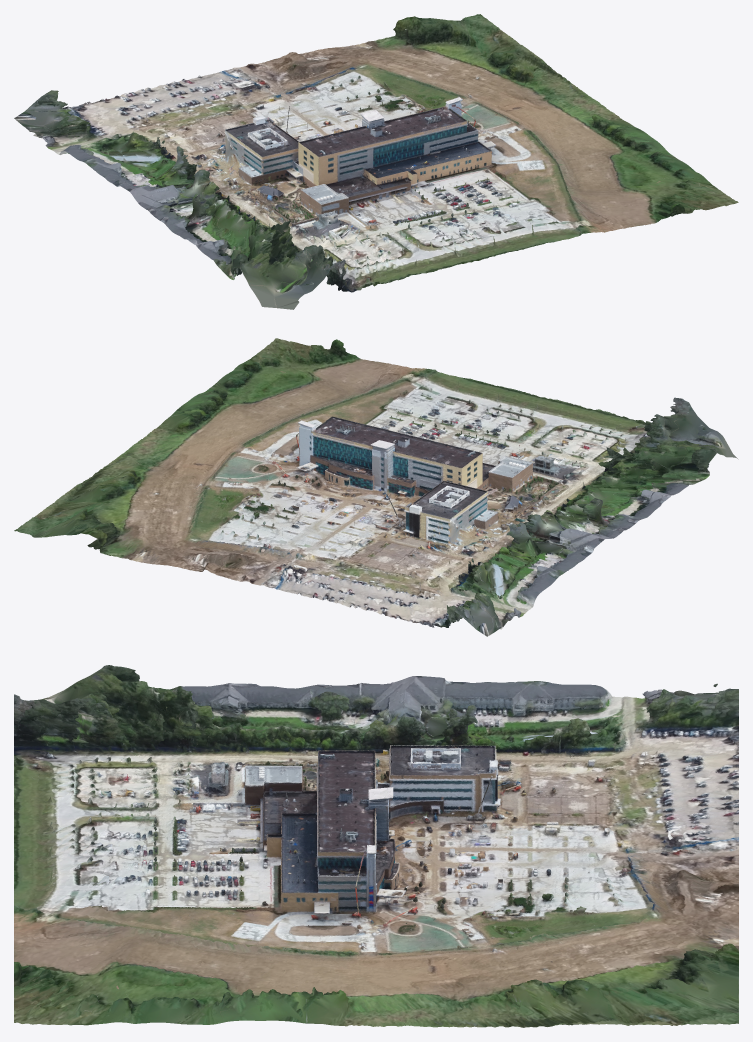
3 views of the same model, one above another, from view 1: azimuth 30°, elevation 25°; view 2: azimuth 150°, elevation 25°; view 3: azimuth 270°, elevation 25° (orthographic). The views are drawn at different scales.
Size of the model in its own units: 60.8 by 6.71 by 58.39.
Materials: 1 (1 with a texture image).
